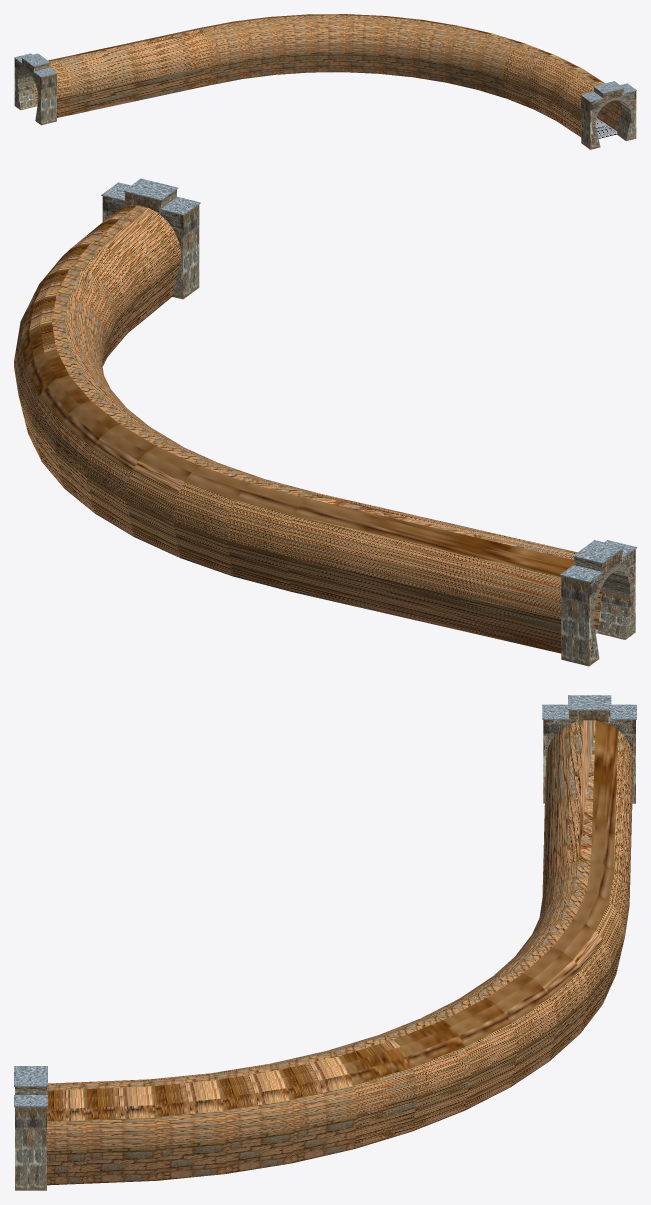
Rendered from GMLID_BUI336993_213_9312.gltf.
3 renders of one model, top to bottom at view 1: azimuth 30°, elevation 25°; view 2: azimuth 150°, elevation 25°; view 3: azimuth 270°, elevation 25°, orthographic. The views are drawn at different scales.
Parts seen in each view (by area): view 1: Z_UP; view 2: Z_UP; view 3: Z_UP.
Boxes of the visible parts, x1,y1,x2,y2 form: Z_UP: (14,14,636,149); Z_UP: (14,178,636,666); Z_UP: (14,695,636,1190).
Bounding box in the file's own units: 105 × 14.75 × 72.69.
Materials: 4 (4 with a texture image).
